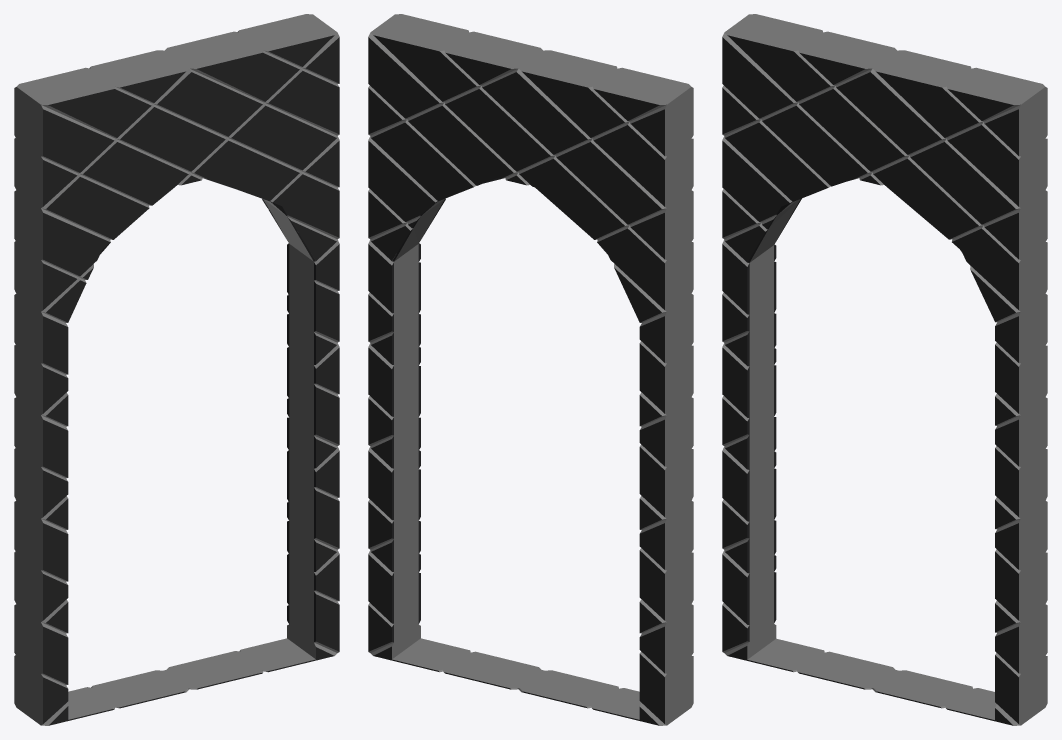
The model's file is DiagonalTileDoorframe.glb.
3 views of the same model, side by side, from view 1: azimuth 30°, elevation 25°; view 2: azimuth 150°, elevation 25°; view 3: azimuth 330°, elevation 25° (orthographic).
Visible parts, largest first — view 1: wall_diagonalTile_door; view 2: wall_diagonalTile_door; view 3: wall_diagonalTile_door.
Boxes of the visible parts, x1=… form: wall_diagonalTile_door: x1=14, y1=14, x2=339, y2=725; wall_diagonalTile_door: x1=368, y1=14, x2=693, y2=725; wall_diagonalTile_door: x1=722, y1=14, x2=1047, y2=725.
Size of what is drawn, in the model's own units: 2 by 4 by 0.3377.
1 material, 1 textured.
